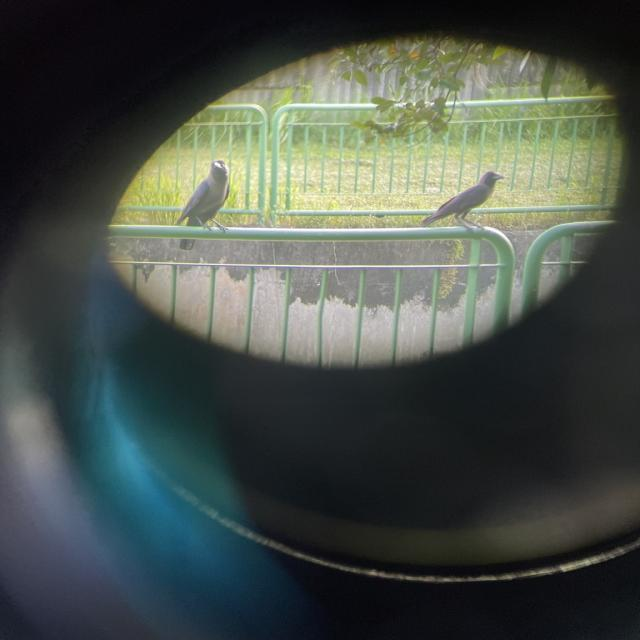bird: (170, 158, 234, 252), (418, 170, 511, 234)
